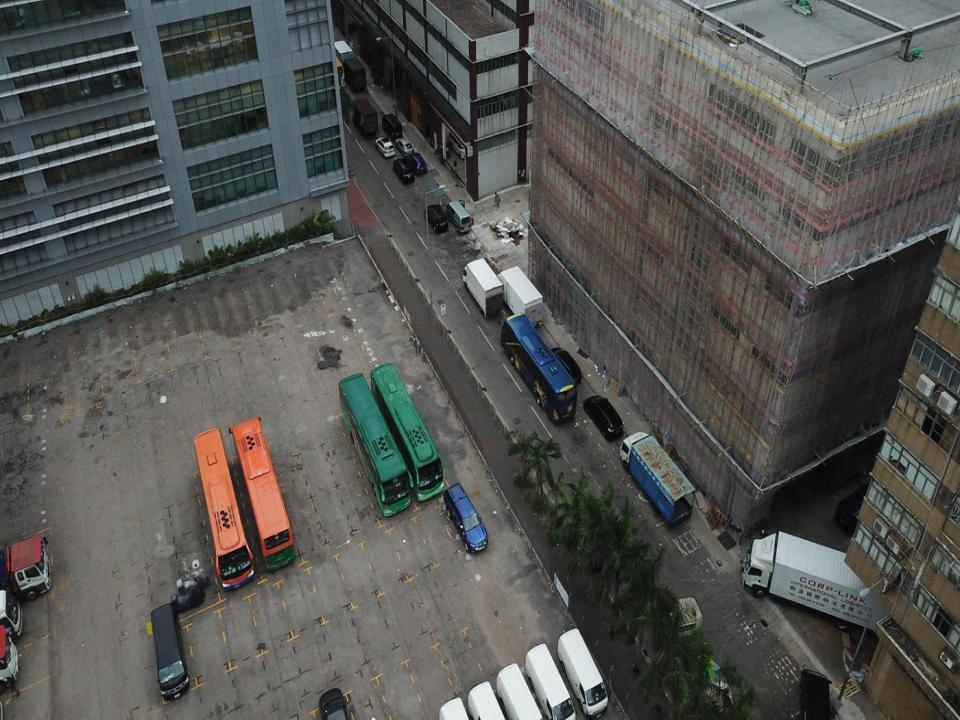bus: (333, 369, 414, 517), (227, 412, 296, 572), (370, 358, 444, 504), (193, 425, 254, 592), (498, 308, 578, 426)
car: (444, 483, 490, 554), (582, 392, 622, 439), (550, 342, 582, 386), (318, 686, 348, 719), (424, 204, 447, 235), (392, 154, 415, 184), (408, 151, 426, 176), (375, 135, 394, 157), (393, 136, 414, 155)
truck: (742, 530, 915, 644), (618, 427, 696, 526), (0, 530, 51, 600), (494, 265, 543, 329), (460, 257, 504, 319), (0, 626, 21, 687), (0, 590, 24, 642), (352, 97, 379, 140)
van: (558, 628, 609, 714), (149, 602, 191, 701), (523, 642, 577, 719), (494, 657, 544, 719), (467, 680, 509, 719), (332, 37, 366, 85), (443, 198, 472, 229), (380, 109, 402, 140)
